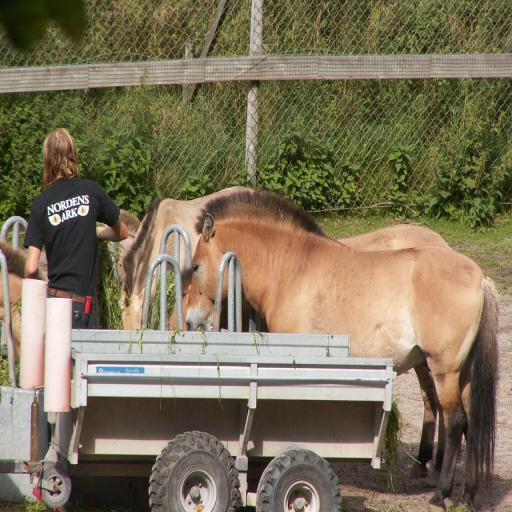horse: (184, 188, 500, 512), (166, 248, 454, 480), (116, 185, 254, 331), (0, 238, 47, 356), (106, 209, 142, 285)
